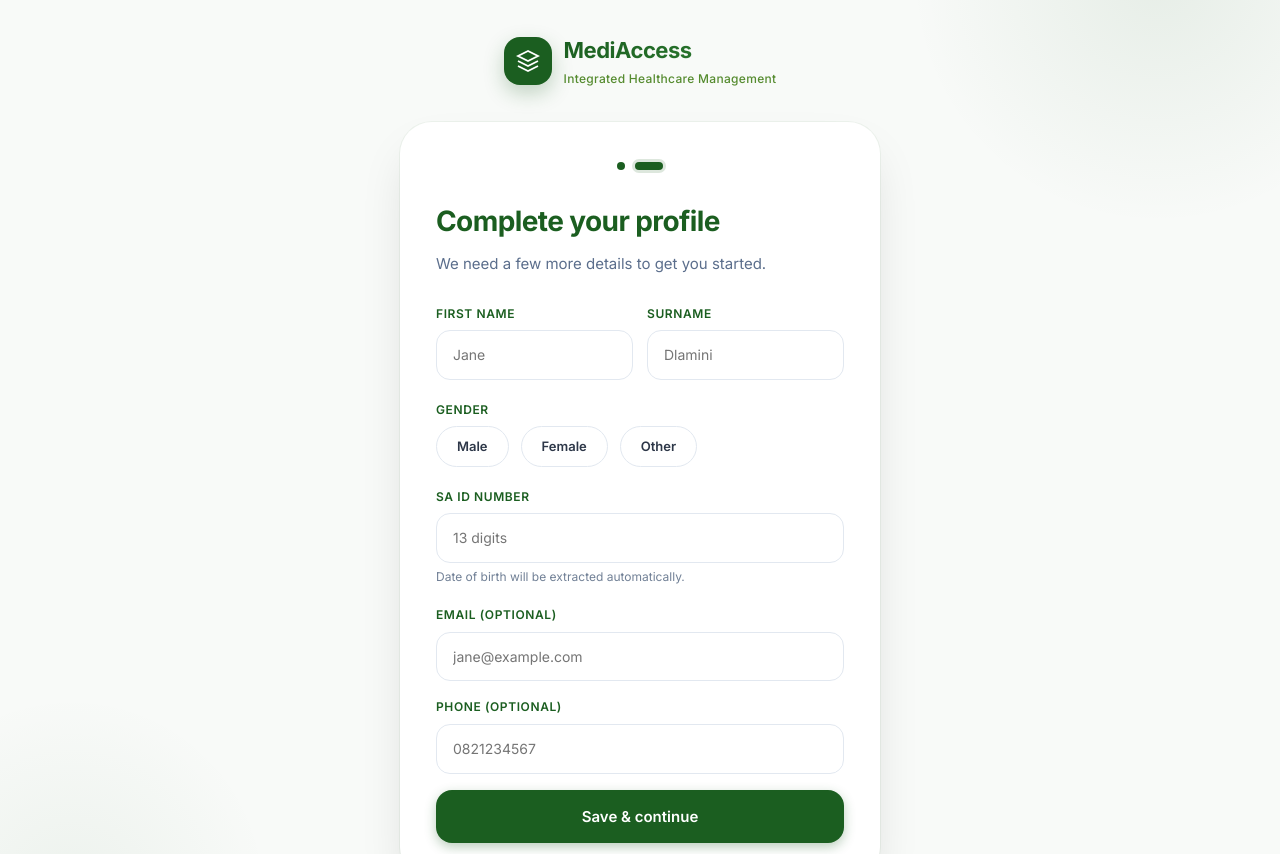
ProfileStep - ID number validation › shows error when ID is shorter than 13 digits
This screenshot has width=1280, height=854.
Type "Alice" into the field with placeholder "Jane" at (534, 355), box 436,330 -> 633,380
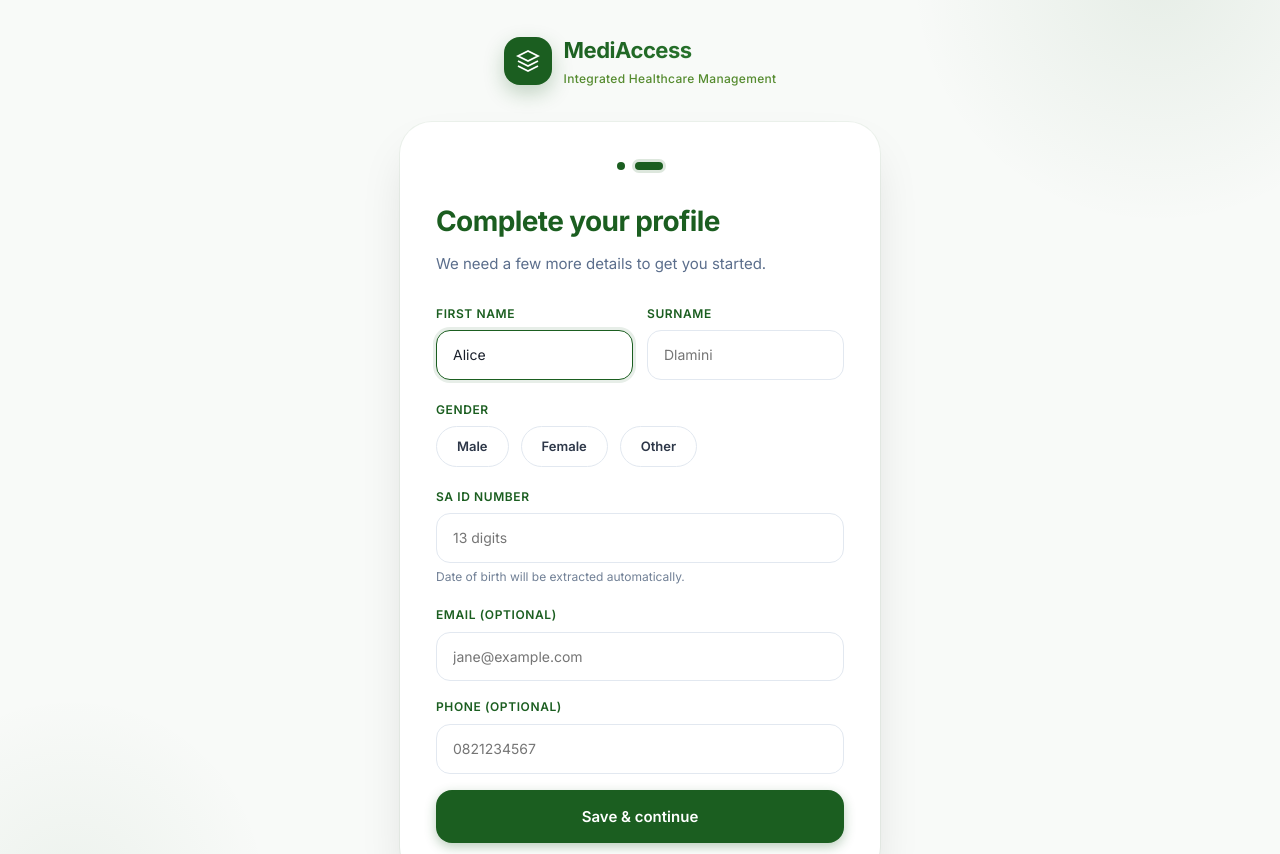
Type "Nkosi" into the field with placeholder "Dlamini" at (746, 355), box 647,330 -> 844,380
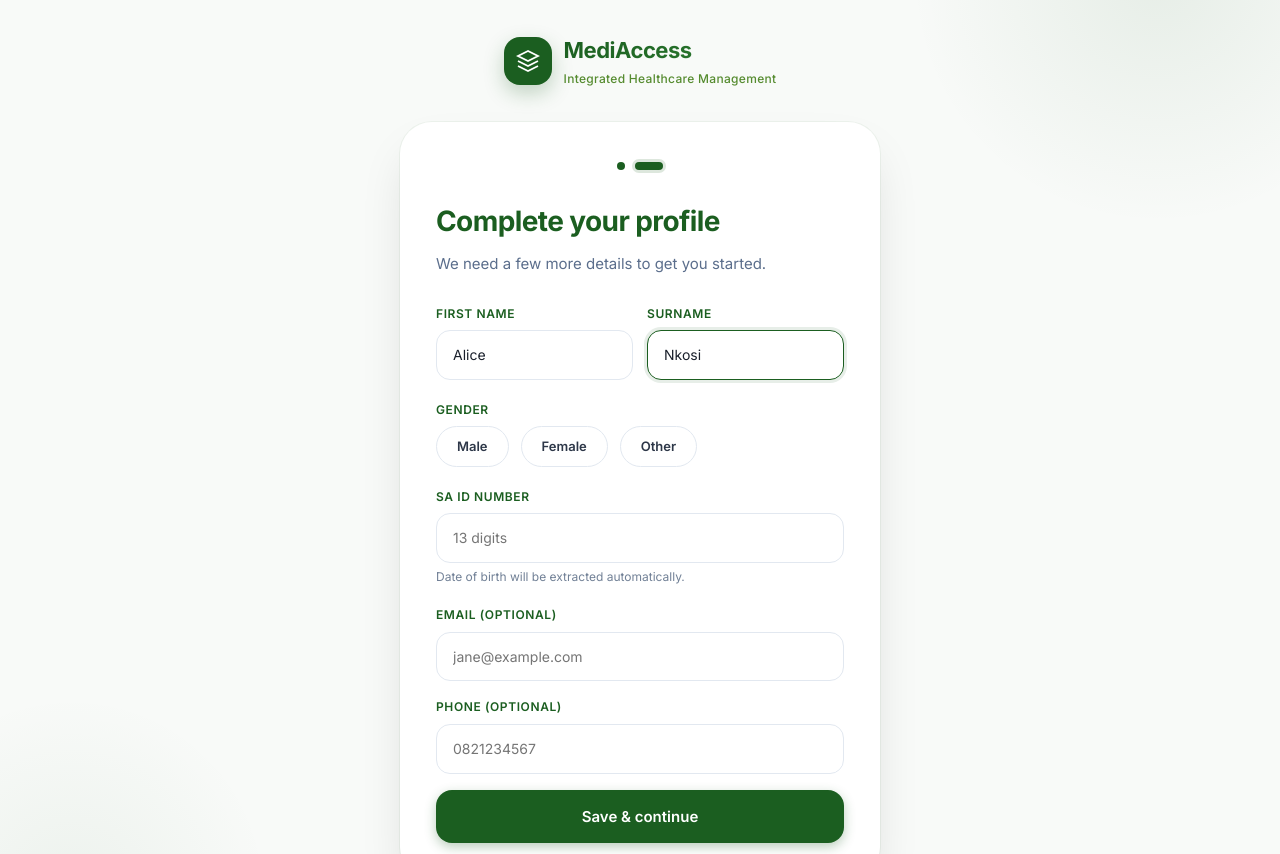
Click the button "Female" at (564, 447), box 520,426 -> 608,467
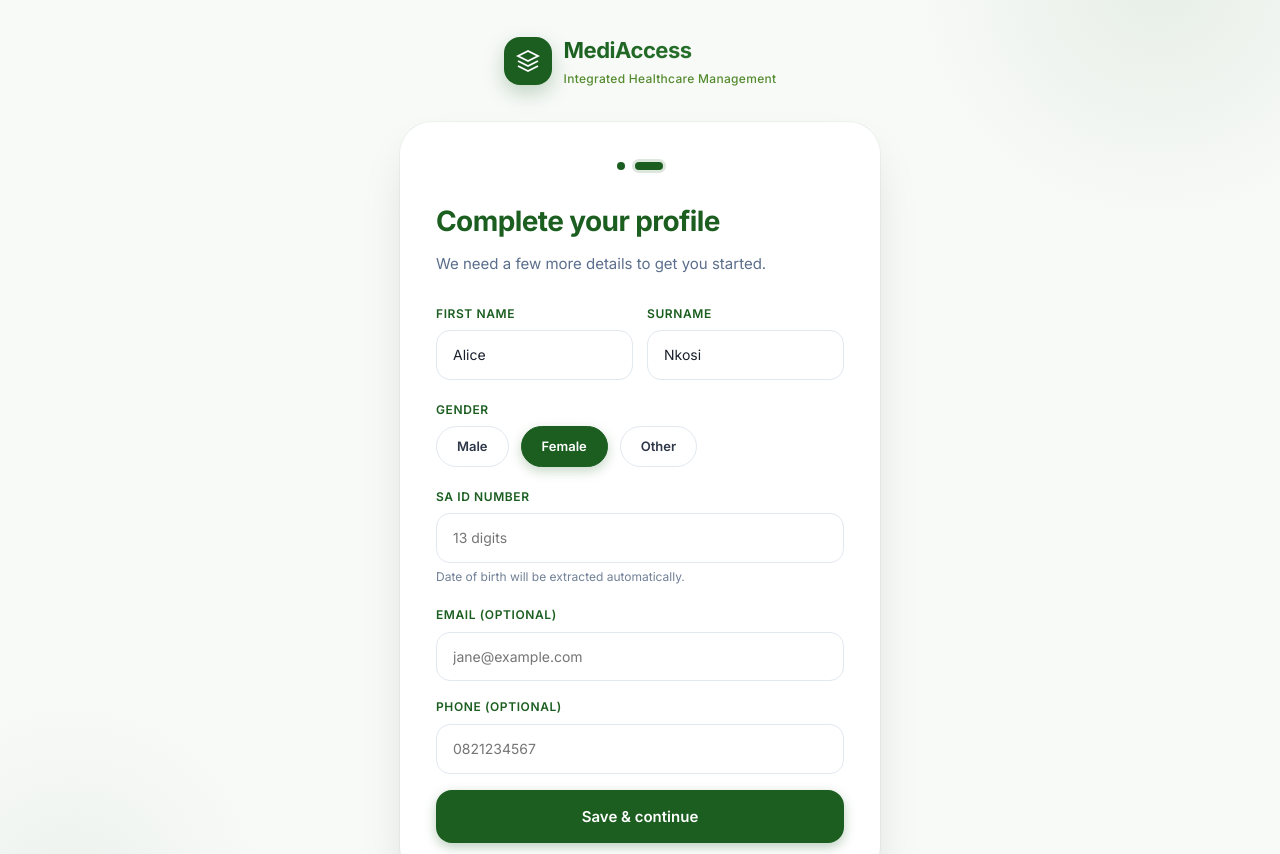
Type "123456" into the field with placeholder "13 digits" at (640, 538), box 436,513 -> 844,563
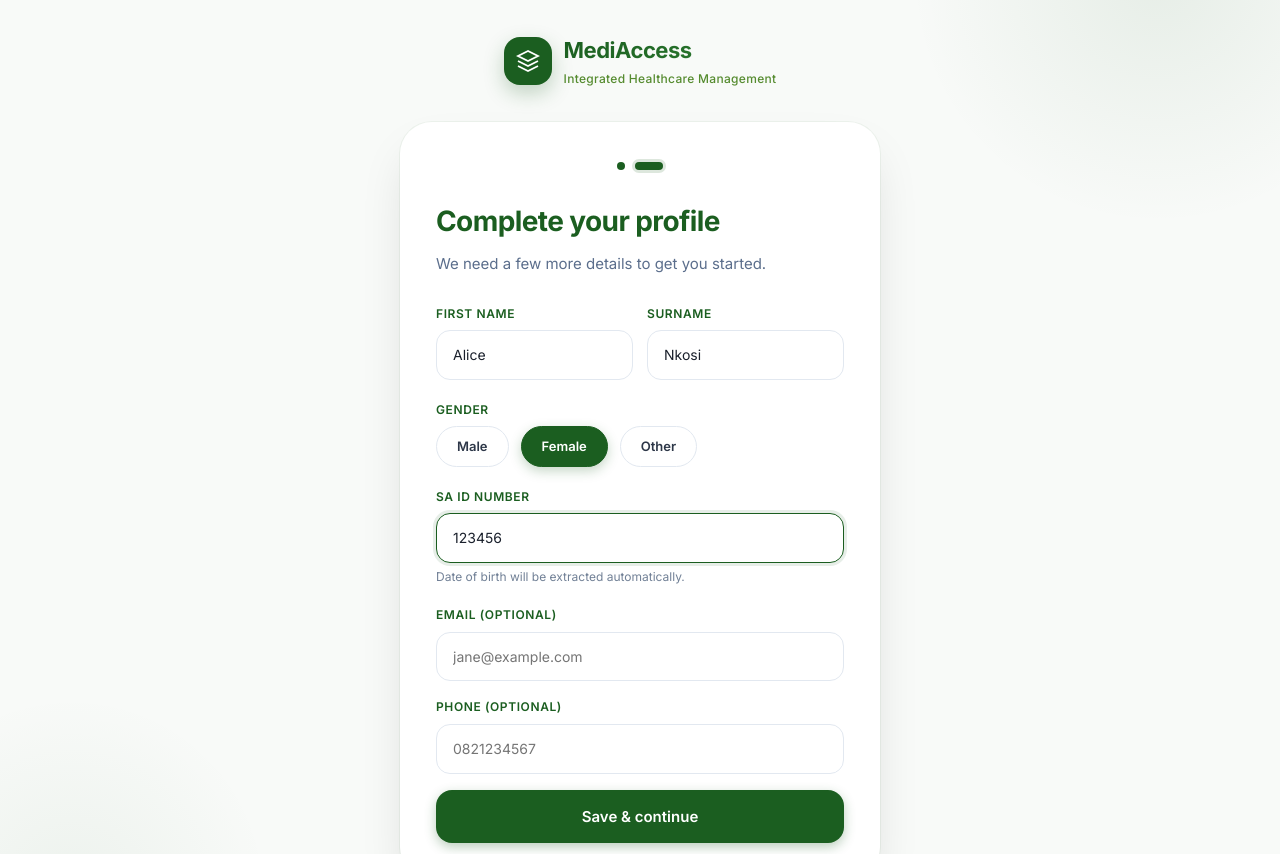
Click the button "Save & continue" at (640, 816), box 436,790 -> 844,843
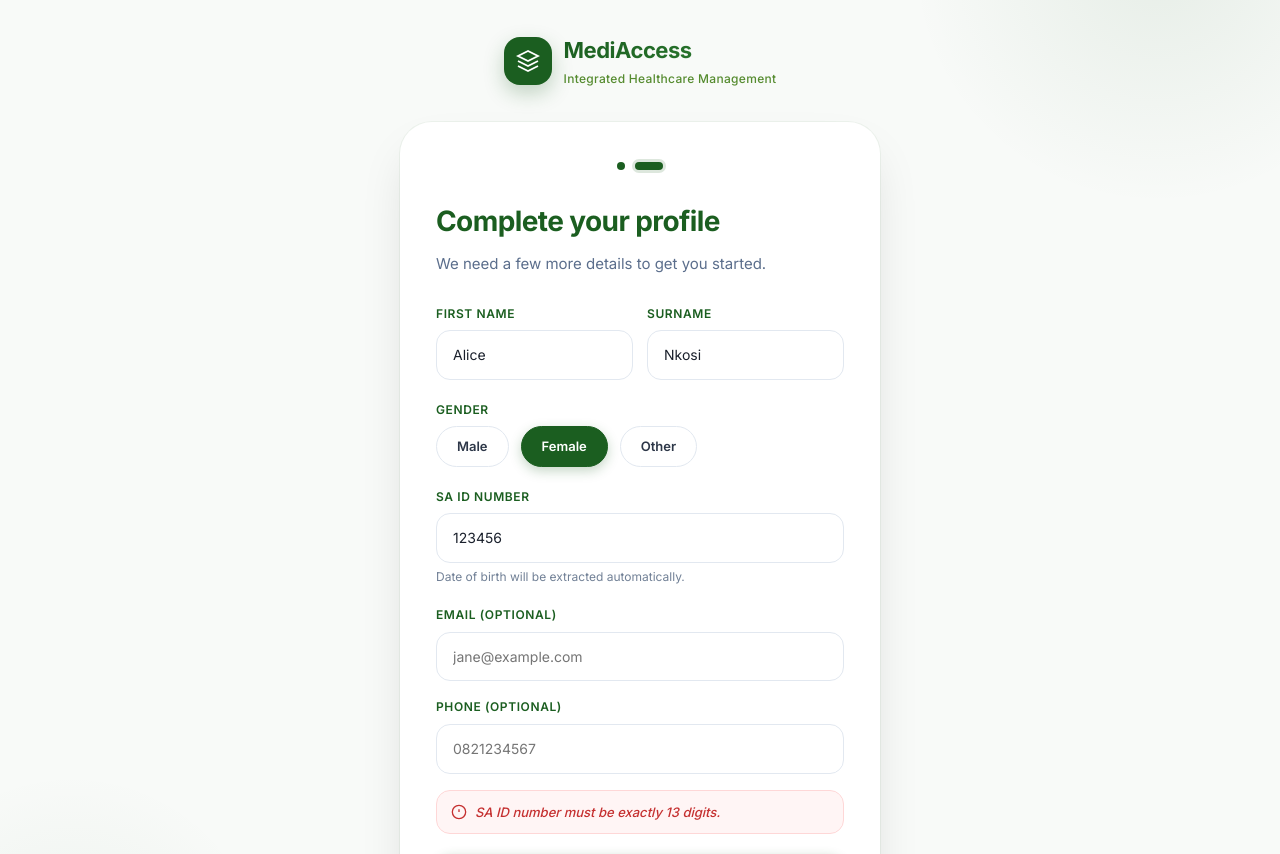
Result: the text "SA ID number must be exactly 13 digits." is shown at 475,800 -> 720,823
